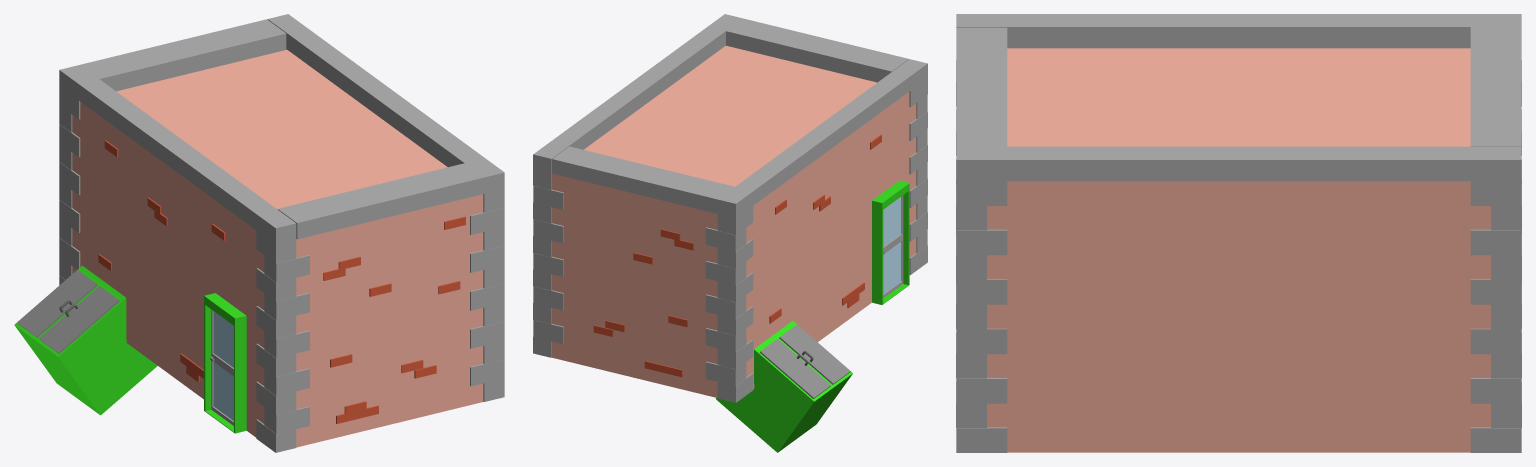
Rendered from schietbaan.fbx.
The picture shows the model from 3 angles, left to right: view 1: azimuth 30°, elevation 25°; view 2: azimuth 150°, elevation 25°; view 3: azimuth 270°, elevation 25°; orthographic projection. The views are drawn at different scales.
Visible parts, largest first — view 1: Cube.025; view 2: Cube.025; view 3: Cube.025.
Boxes of the visible parts, x1,y1,x2,y2 form: Cube.025: (14,14,504,452); Cube.025: (533,14,927,452); Cube.025: (956,14,1521,452).
Bounding box in the file's own units: 1898 × 1786 × 2410.
